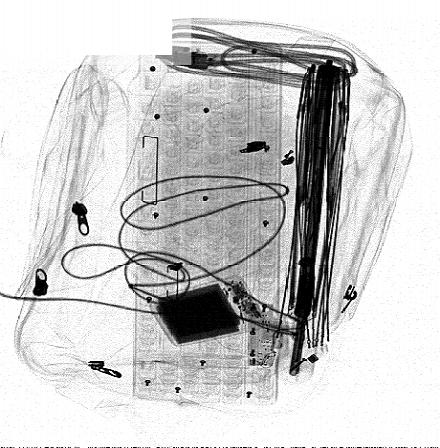Powerbank: (148, 274, 266, 348)
